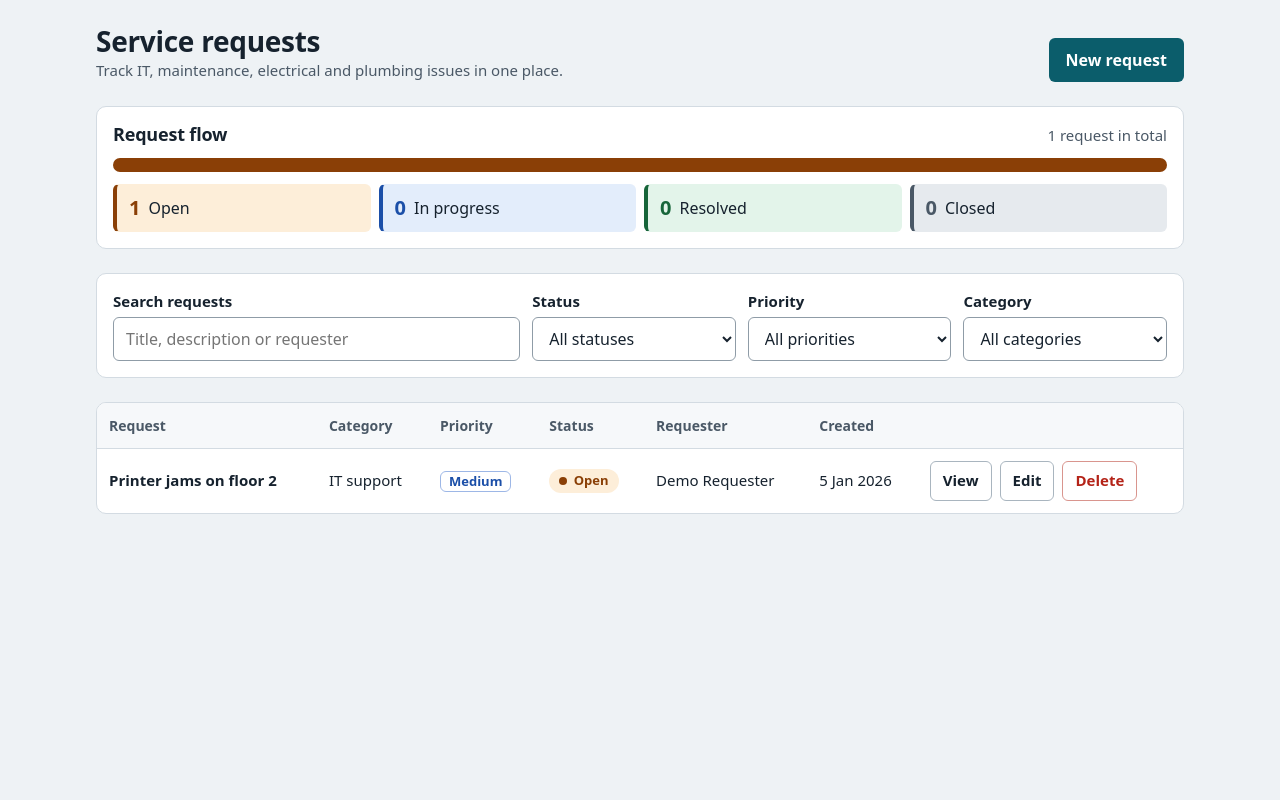
Test: create › blocks submission and shows inline messages when the form is invalid
The width and height of the screenshot is (1280, 800).
Expected: the column heading "Printer jams on floor 2" is shown, [97,448,317,512]
Click the button "New request".
click(1116, 60)  # box [1049,38,1184,82]
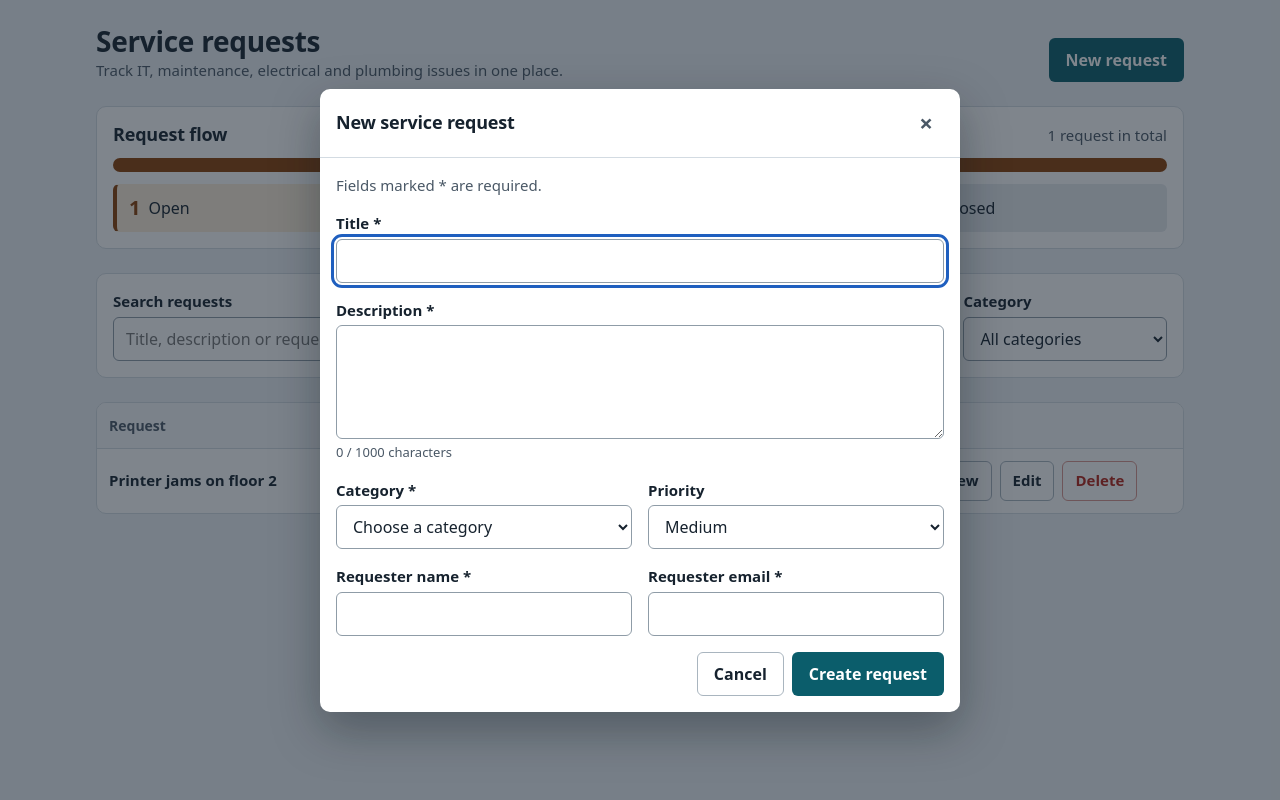
Click the button "Create request".
click(868, 674)  # box [792,652,944,696]
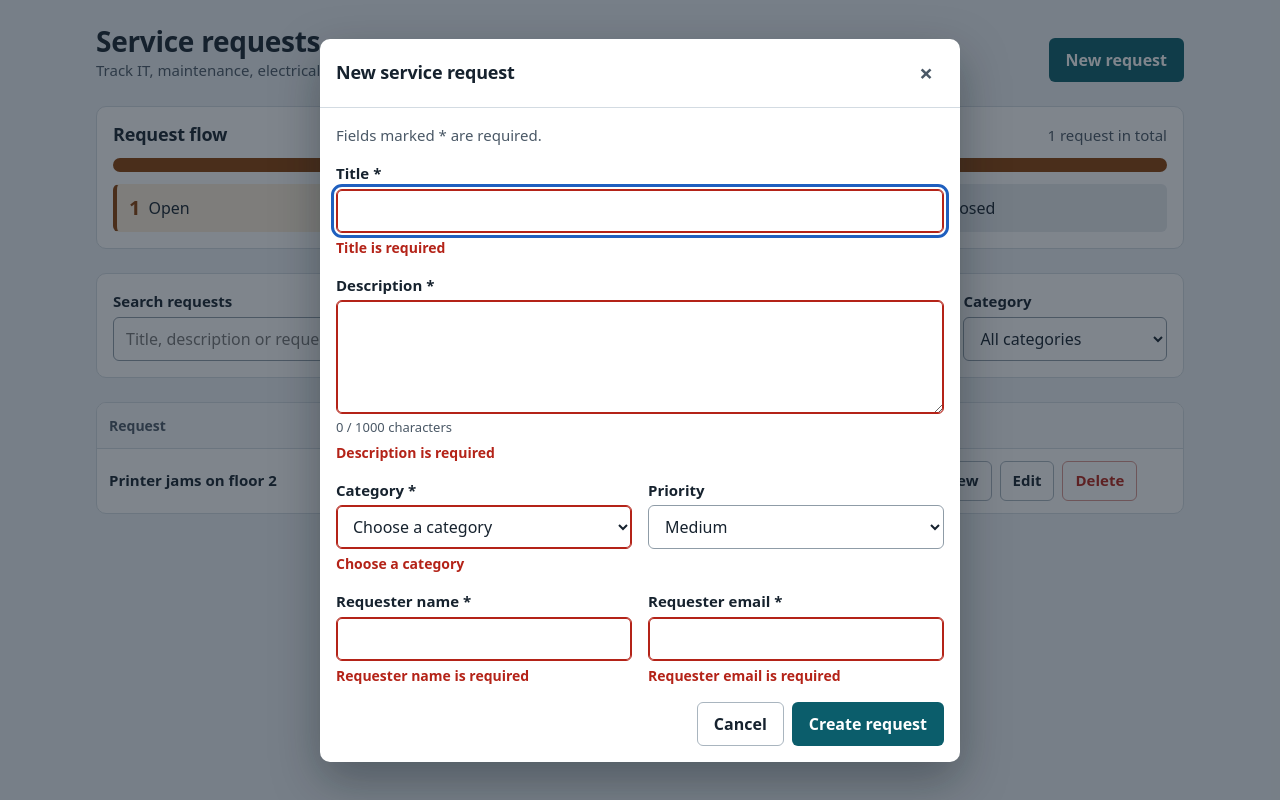
Now the text "Title is required" is shown, box [336,238,445,256]
Now the text "Description is required" is shown, box [336,442,495,462]
Now the text "Choose a category" is shown, box [336,554,464,573]
